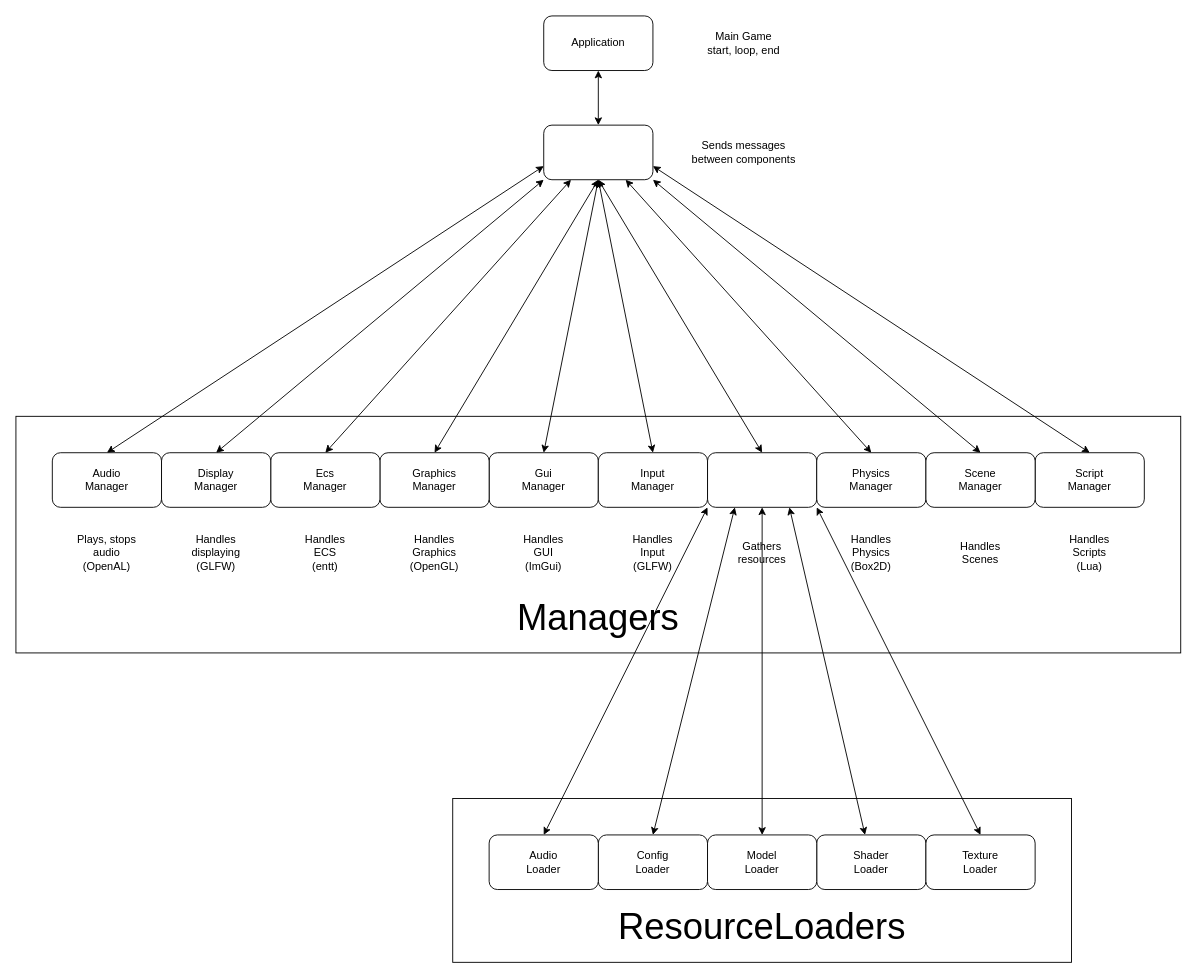
Some shapes in this 1197 by 978 pixel diagram are drawn without their labels. Here are the shapes that lost their labels. From the top down, the centre of each, then its label:
point 598,152: MessageRouter
point 762,479: Resource Manager
